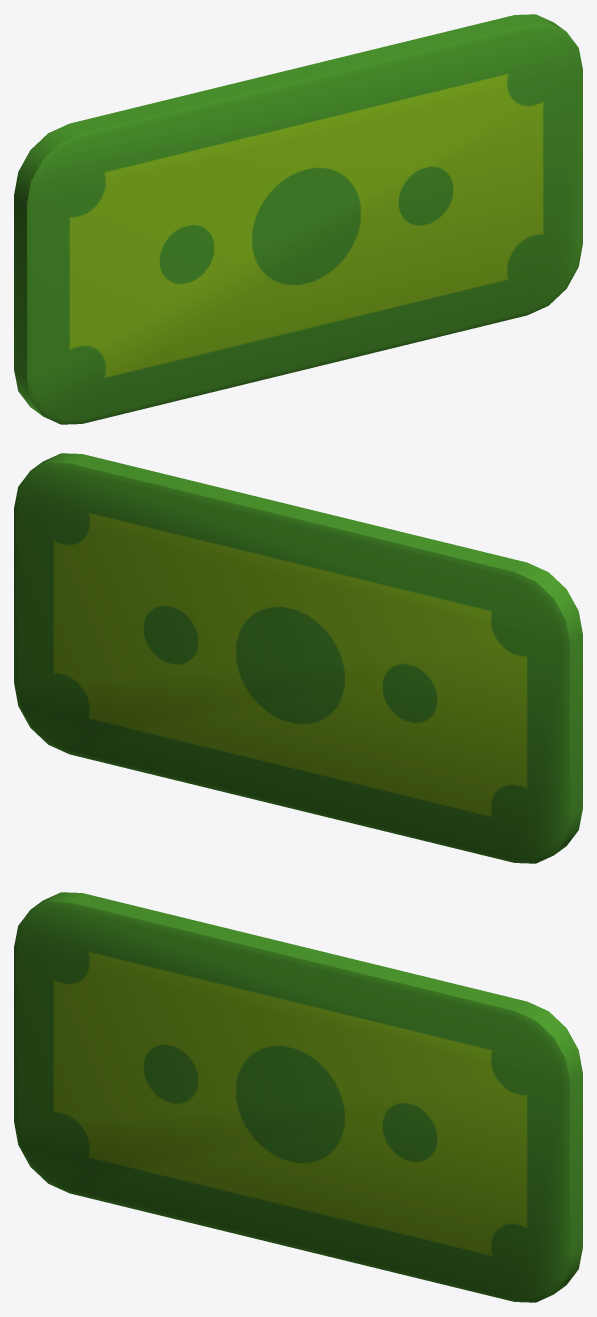
The model's file is MoneySingle.fbx.
3 views of the same model, one above another, from view 1: azimuth 30°, elevation 25°; view 2: azimuth 150°, elevation 25°; view 3: azimuth 330°, elevation 25° (orthographic).
Visible parts, largest first — view 1: MoneySingle; view 2: MoneySingle; view 3: MoneySingle.
Part boxes in pixels (x1,y1,x2,y2): MoneySingle: [14, 14, 582, 424]; MoneySingle: [14, 453, 582, 863]; MoneySingle: [14, 892, 582, 1302].
Size of the model in its own units: 400 by 200 by 20.
